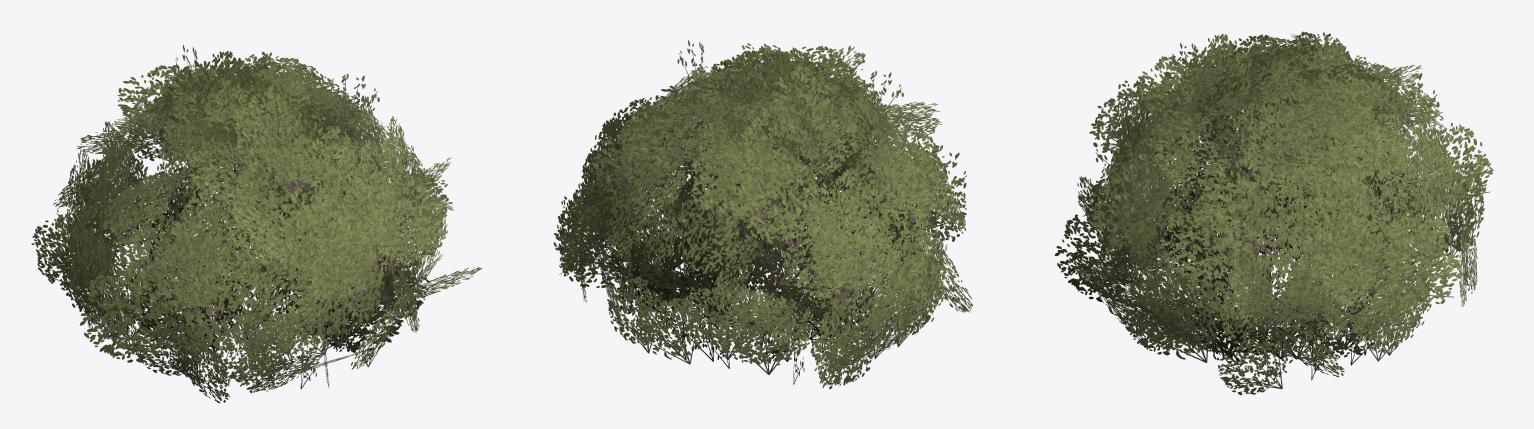
File: brushg.glb
The picture shows the model from 3 angles, left to right: view 1: azimuth 30°, elevation 25°; view 2: azimuth 150°, elevation 25°; view 3: azimuth 270°, elevation 25°; orthographic projection. The views are drawn at different scales.
Parts seen in each view (by area): view 1: brush_lod0; view 2: brush_lod0; view 3: brush_lod0.
Part boxes in pixels (x1,y1,x2,y2): brush_lod0: (31,45,482,403); brush_lod0: (553,40,972,389); brush_lod0: (1054,31,1493,395).
Size of what is drawn, in the model's own units: 1.99 by 1.43 by 1.96.
Materials: 1 (1 with a texture image).
